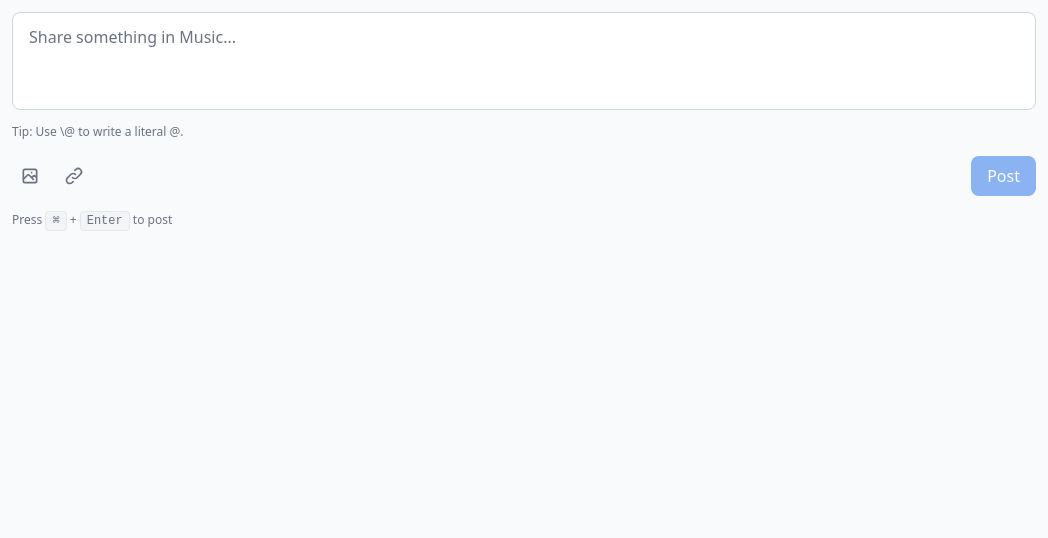
Scenario: PostForm › adds a link via the inline input
Click the button named "Add link" at point(74, 176), box top-left (56, 158), bottom-right (92, 194)
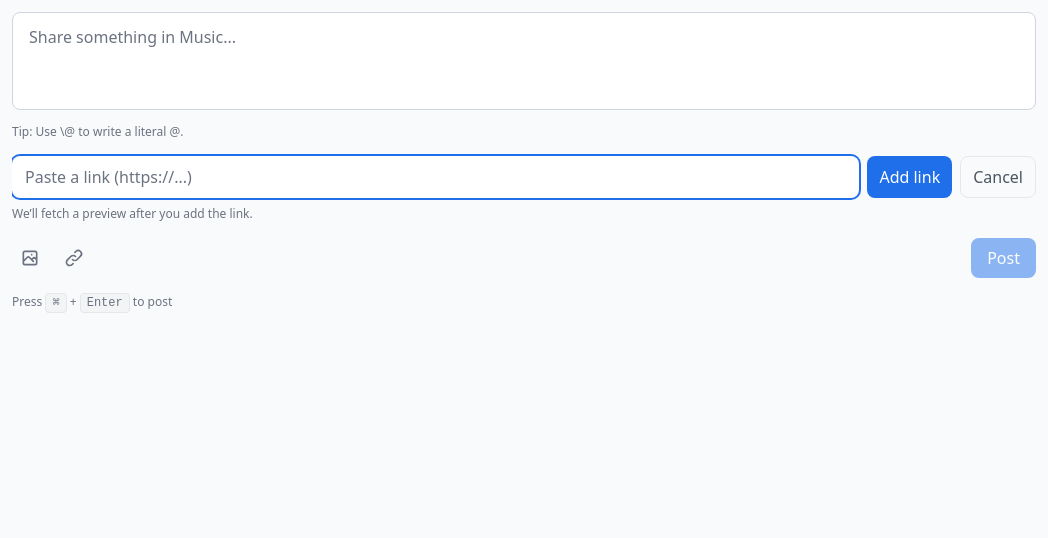
Type "example.com" into the field named "Link URL" at point(436, 177), box top-left (12, 156), bottom-right (859, 198)
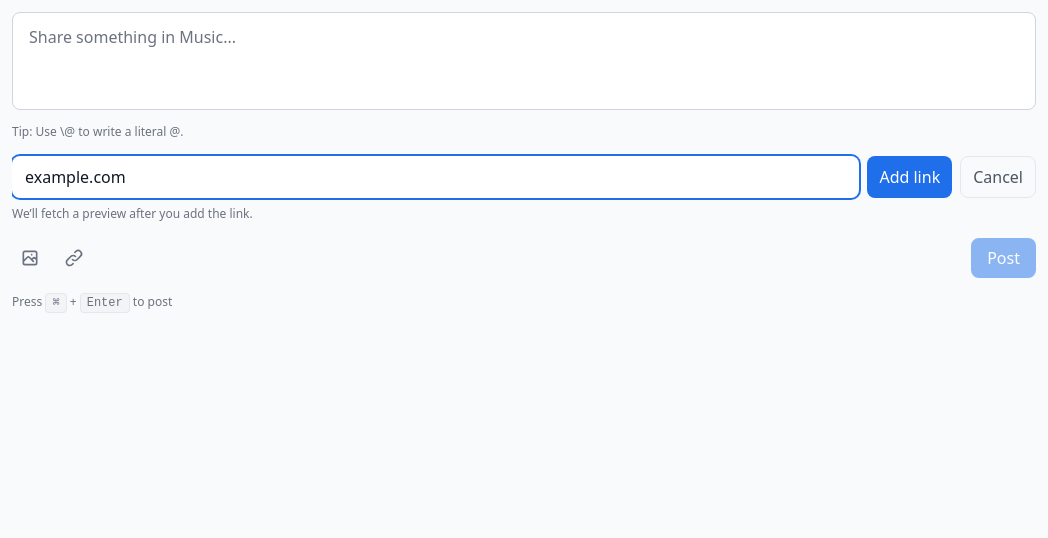
Press Enter in the field named "Link URL", box top-left (12, 156), bottom-right (859, 198)
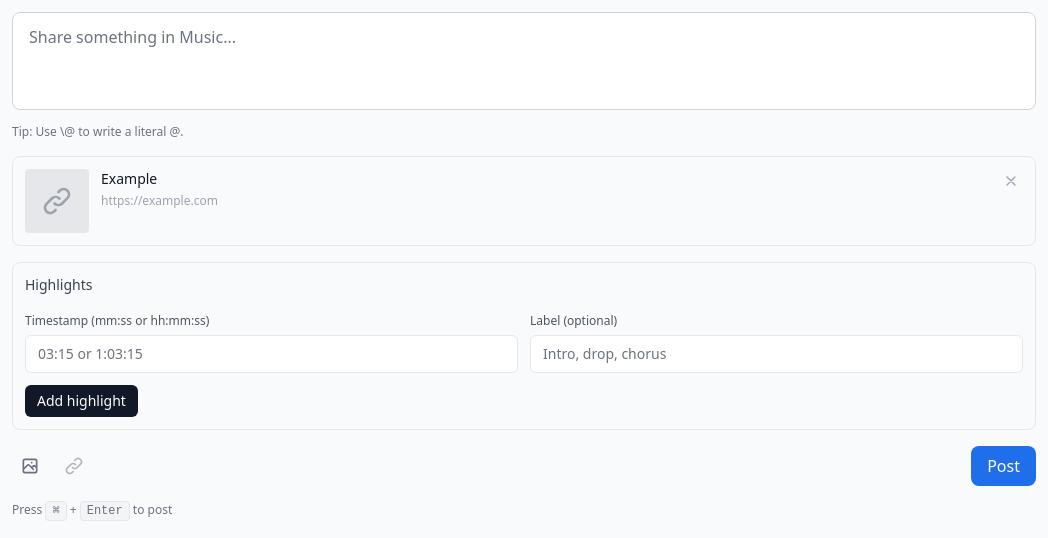
Expected: the heading "Example" is shown, top-left (101, 169), bottom-right (157, 188)
